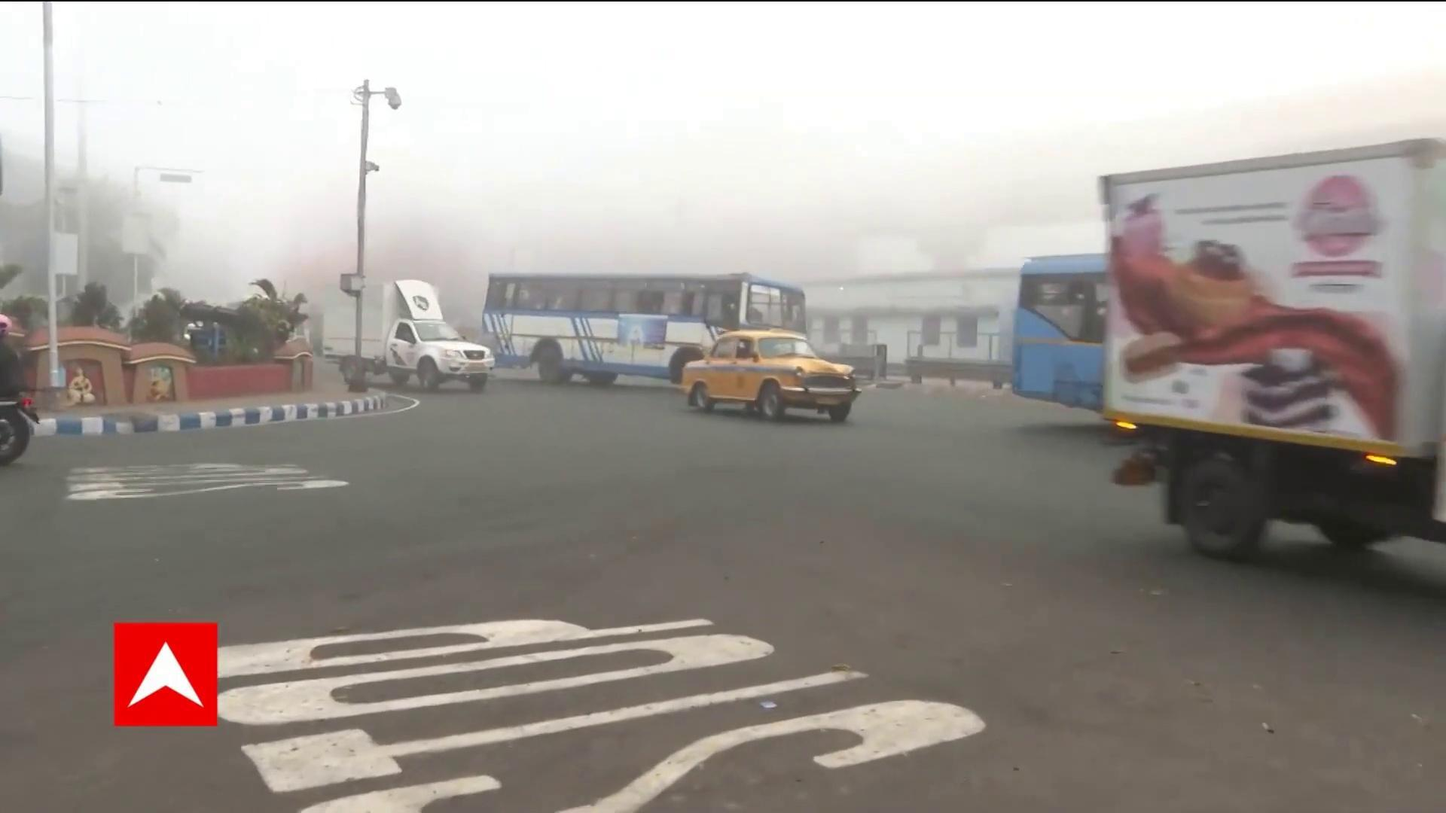Bus: (485, 269, 800, 385)
Car: (682, 330, 860, 423)
Truck: (316, 274, 496, 396)
